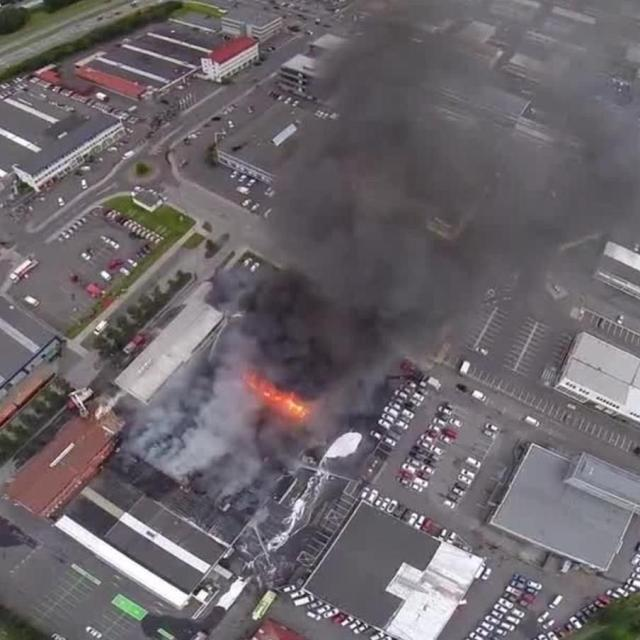Fire: (235, 372, 313, 424)
Smoke: (250, 28, 610, 370), (138, 403, 250, 473)
